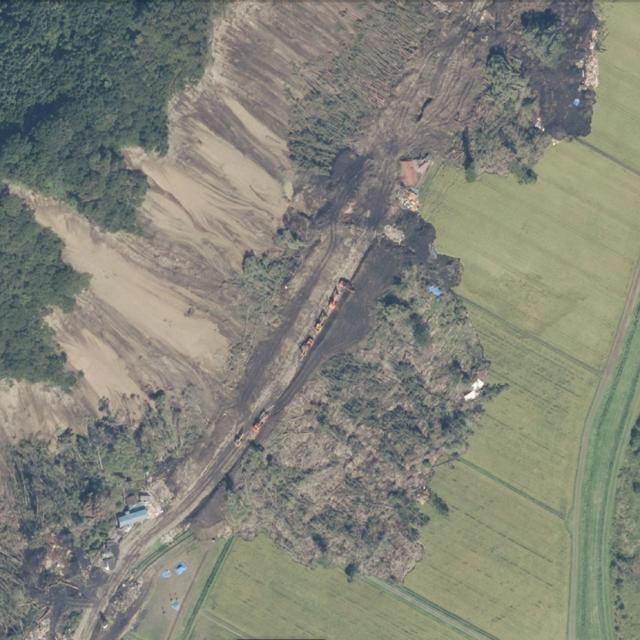landslide: (0, 2, 372, 445), (229, 255, 489, 581), (288, 1, 601, 179)
